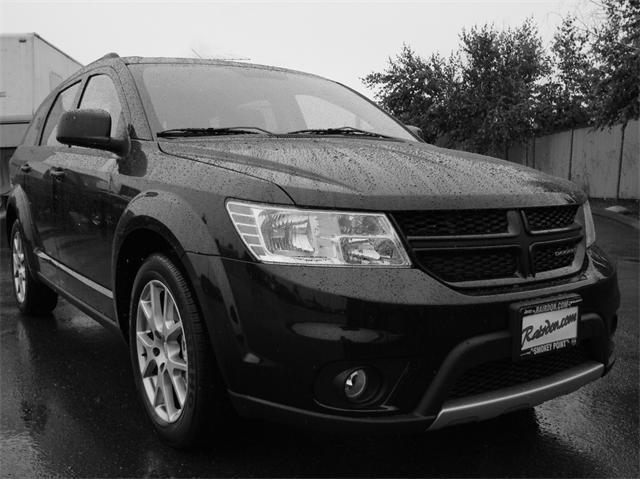car: (8, 54, 626, 456)
